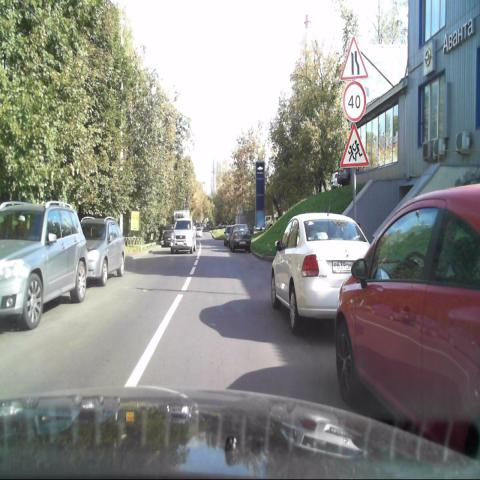1_20_2: (339, 34, 369, 82)
